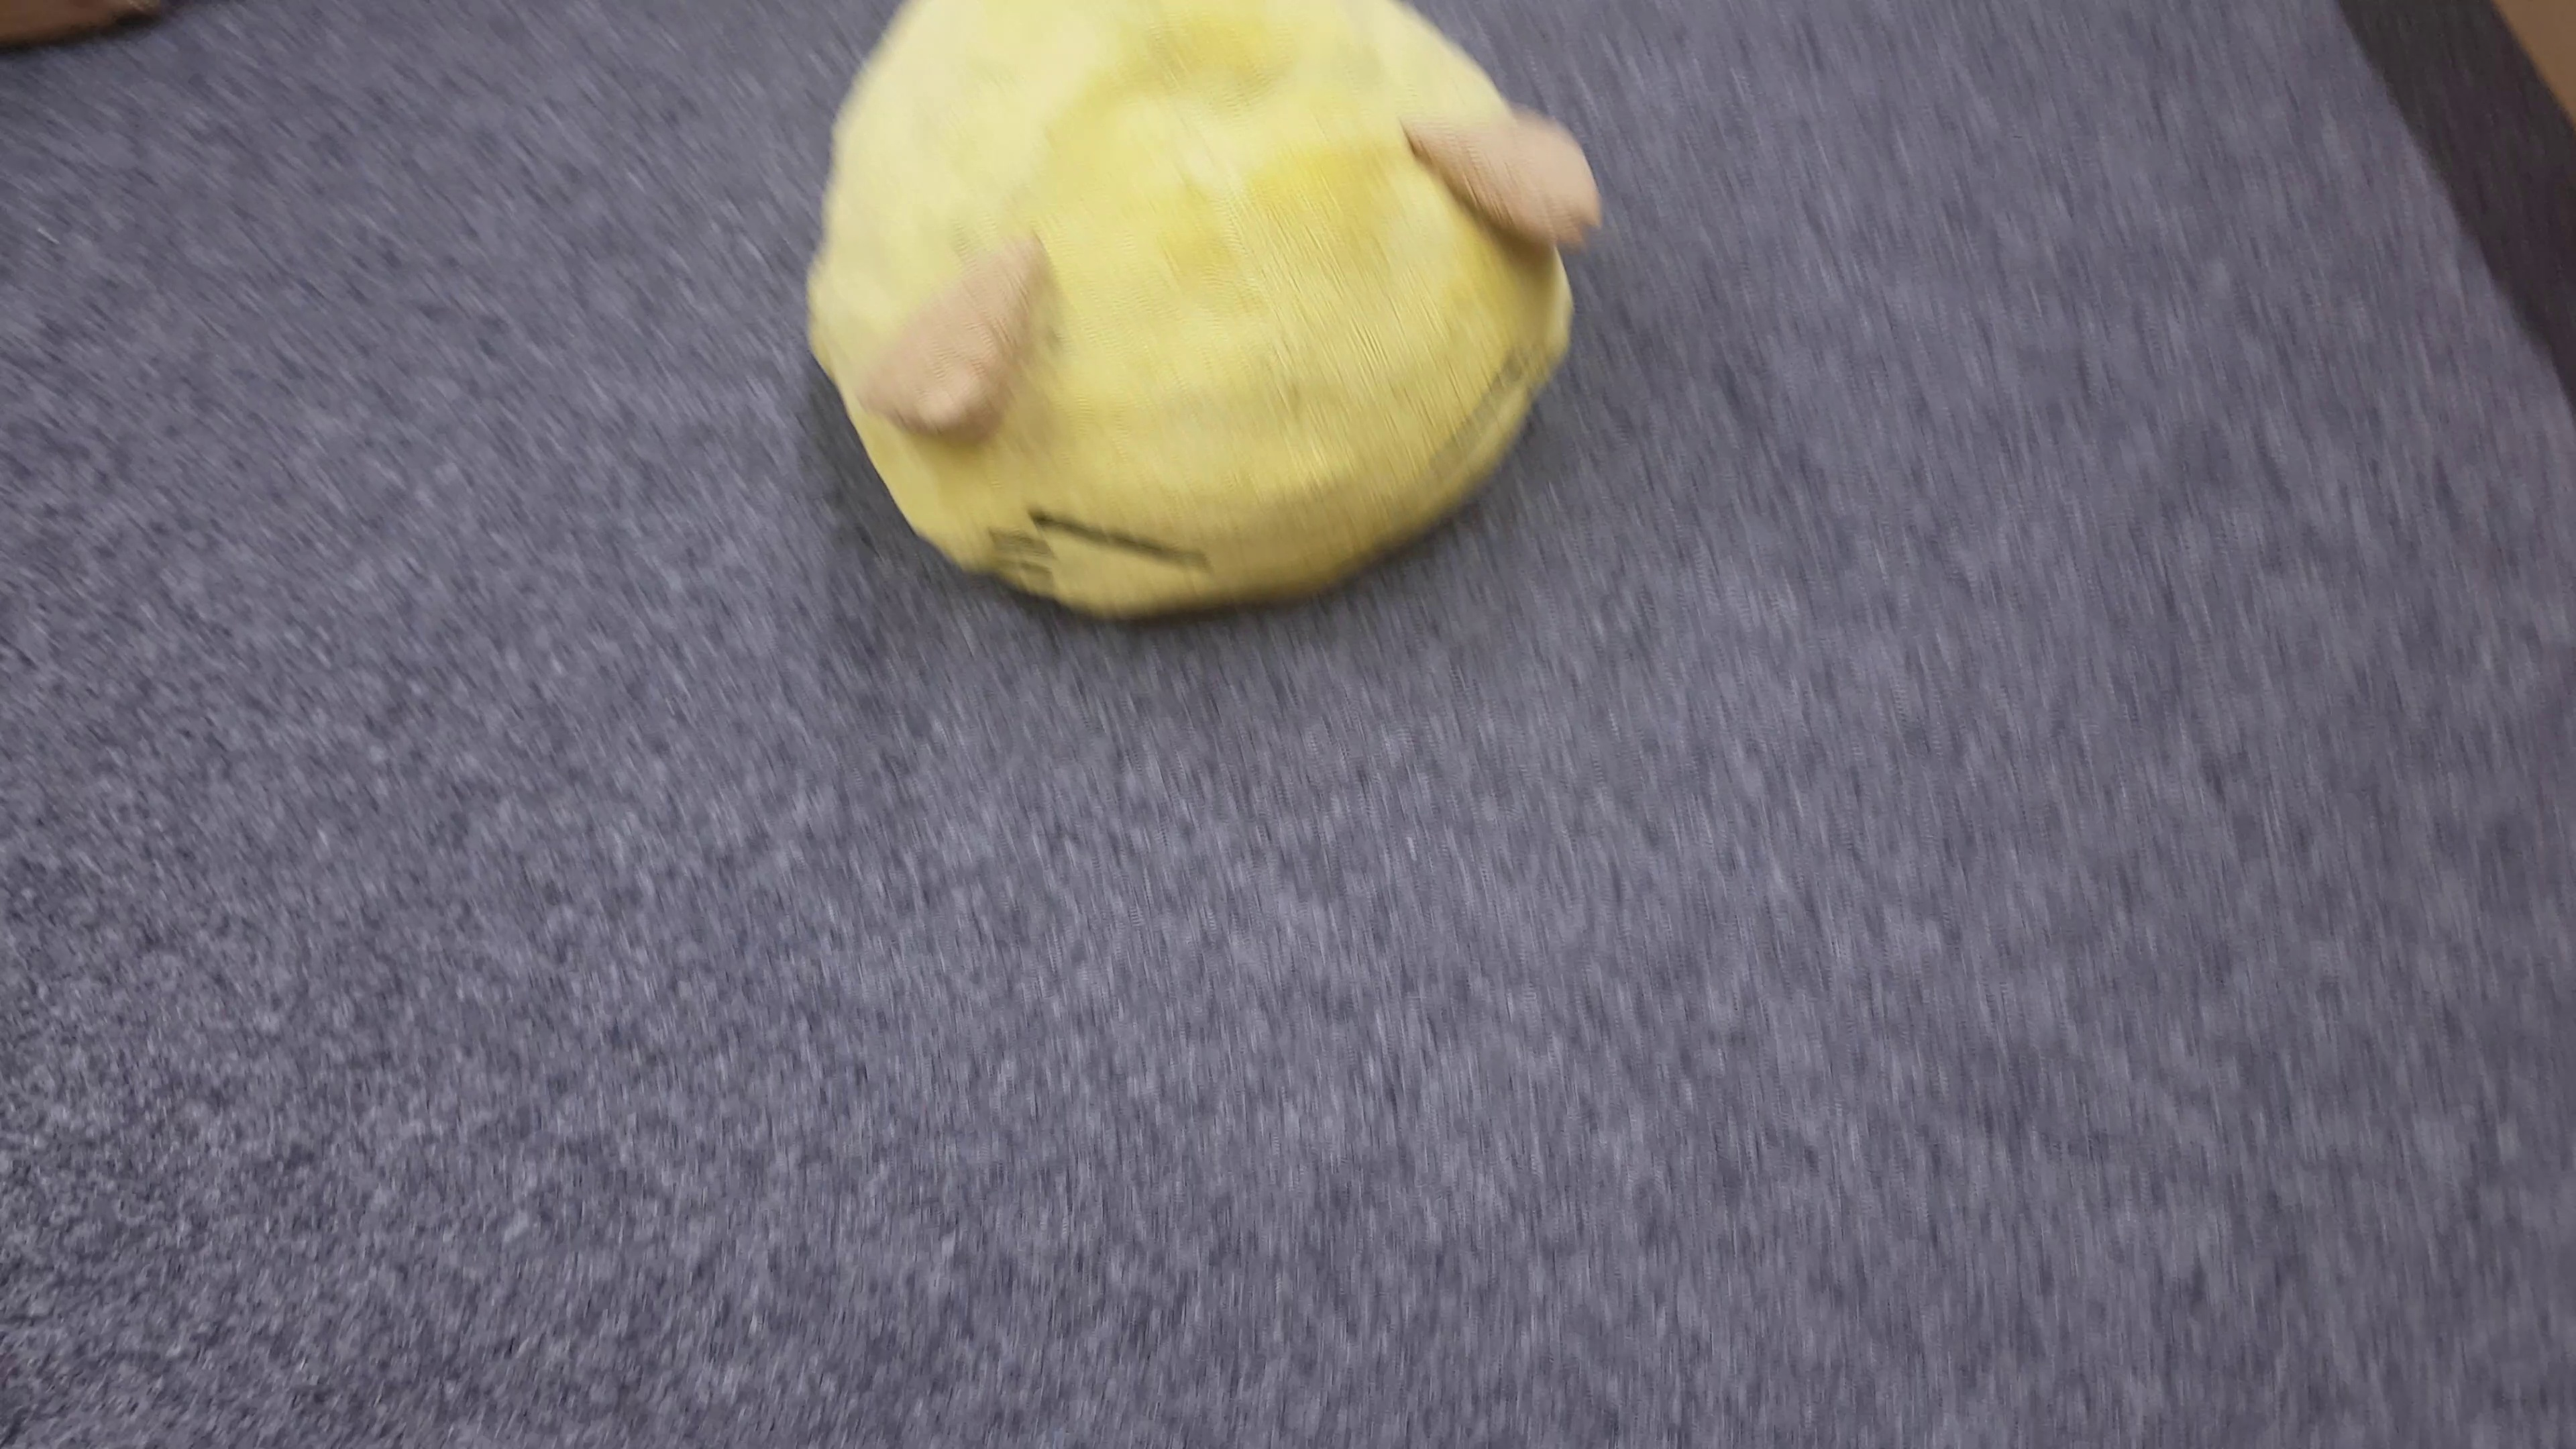grasp: (805, 2, 1598, 617)
